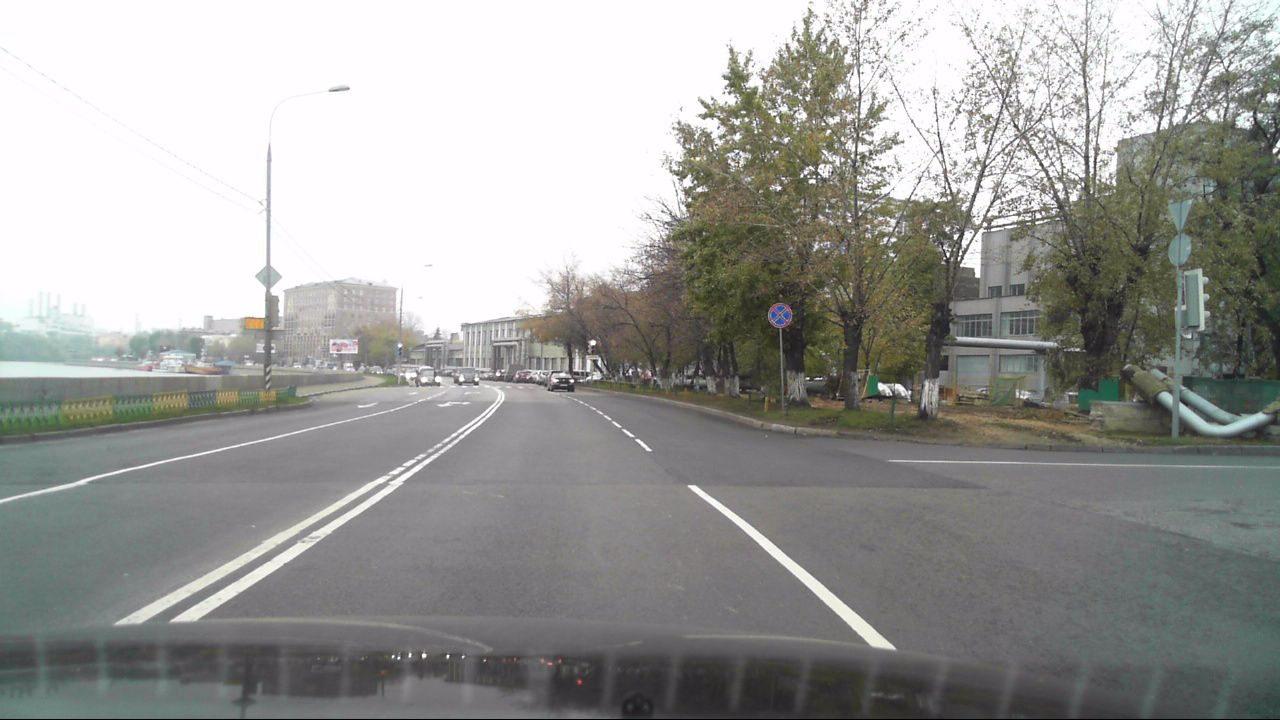No Parking: (766, 300, 792, 328)
